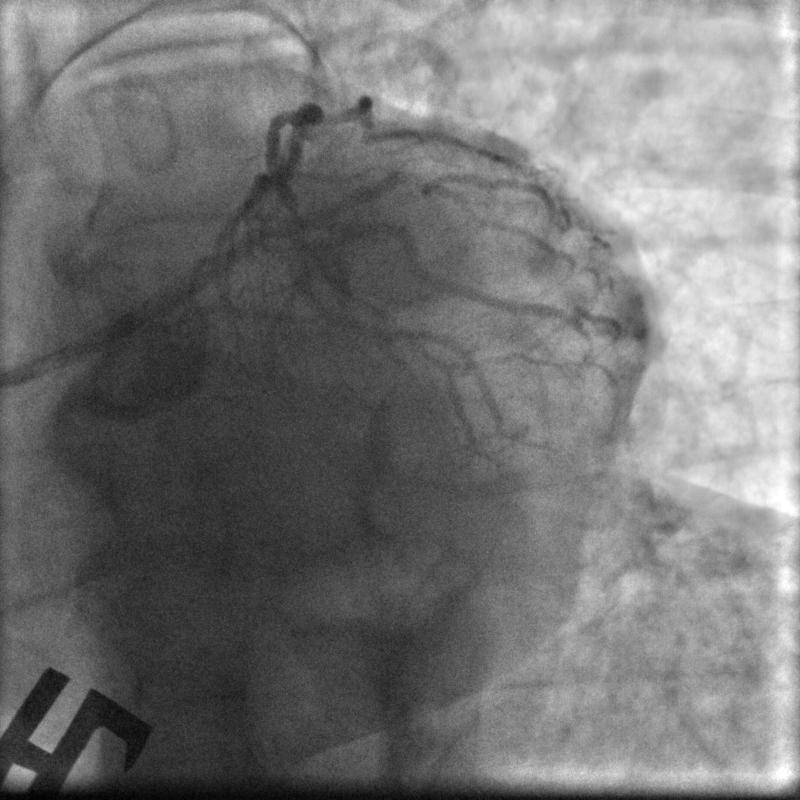Stenosis: (383, 166, 437, 196)
